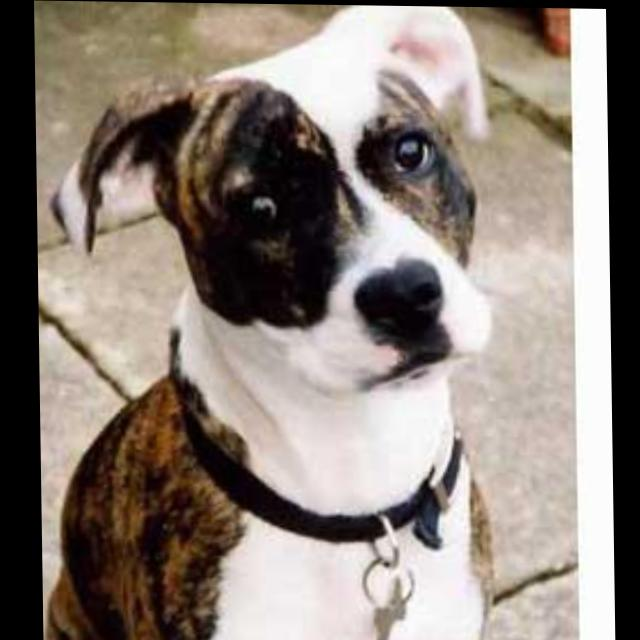staffford: (36, 69, 500, 640)
